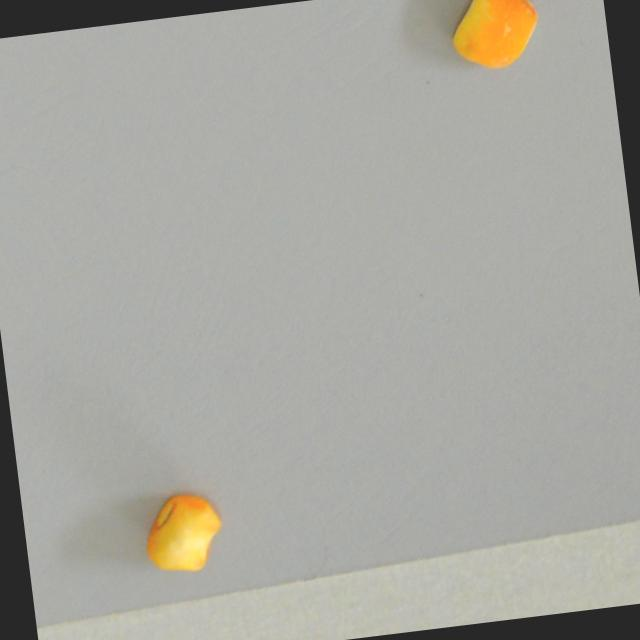dañado: (114, 474, 240, 595), (435, 0, 558, 79)
